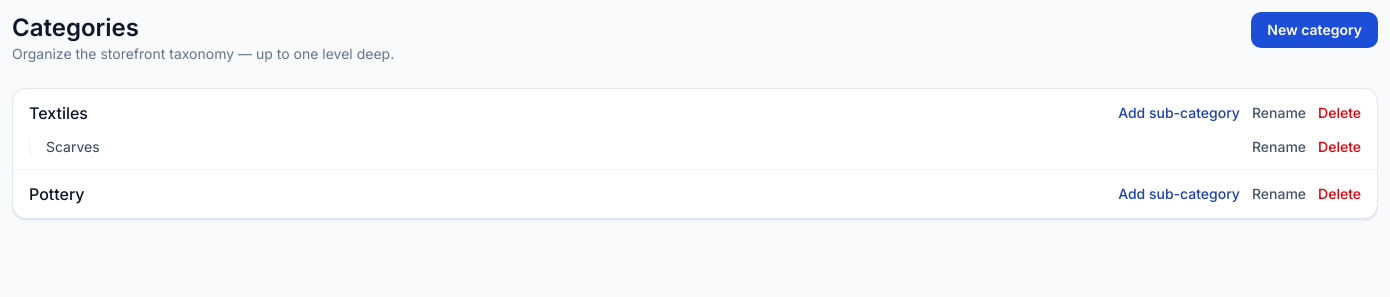
Test case: CategoriesPage › surfaces the 422 guard message when deleting a category that still has products
Expected: the text "Textiles" is shown, [29,101,88,125]
What coordinates should you click on to do the following:
click the button "Delete" in the row of "Textiles"
I would click on:
 (1340, 113)
Its box is [1318,103,1361,123].
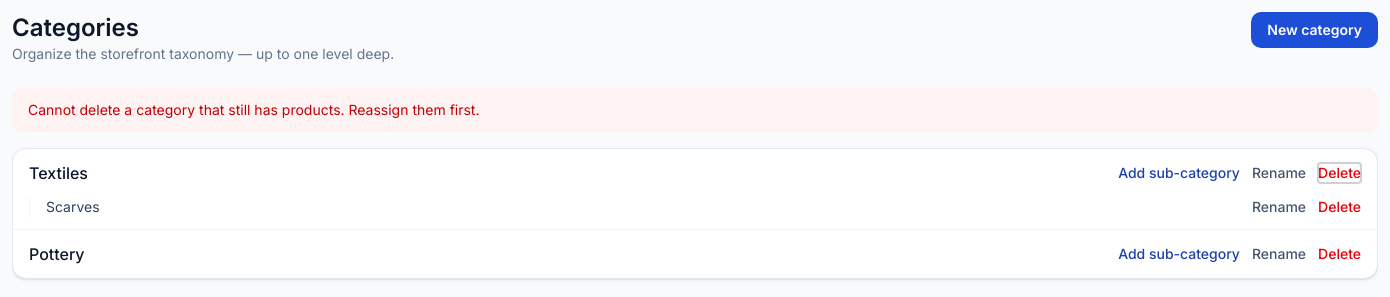
Expected: the text "Cannot delete a category that still has products. Reassign them first." is shown, [12,88,1378,132]
